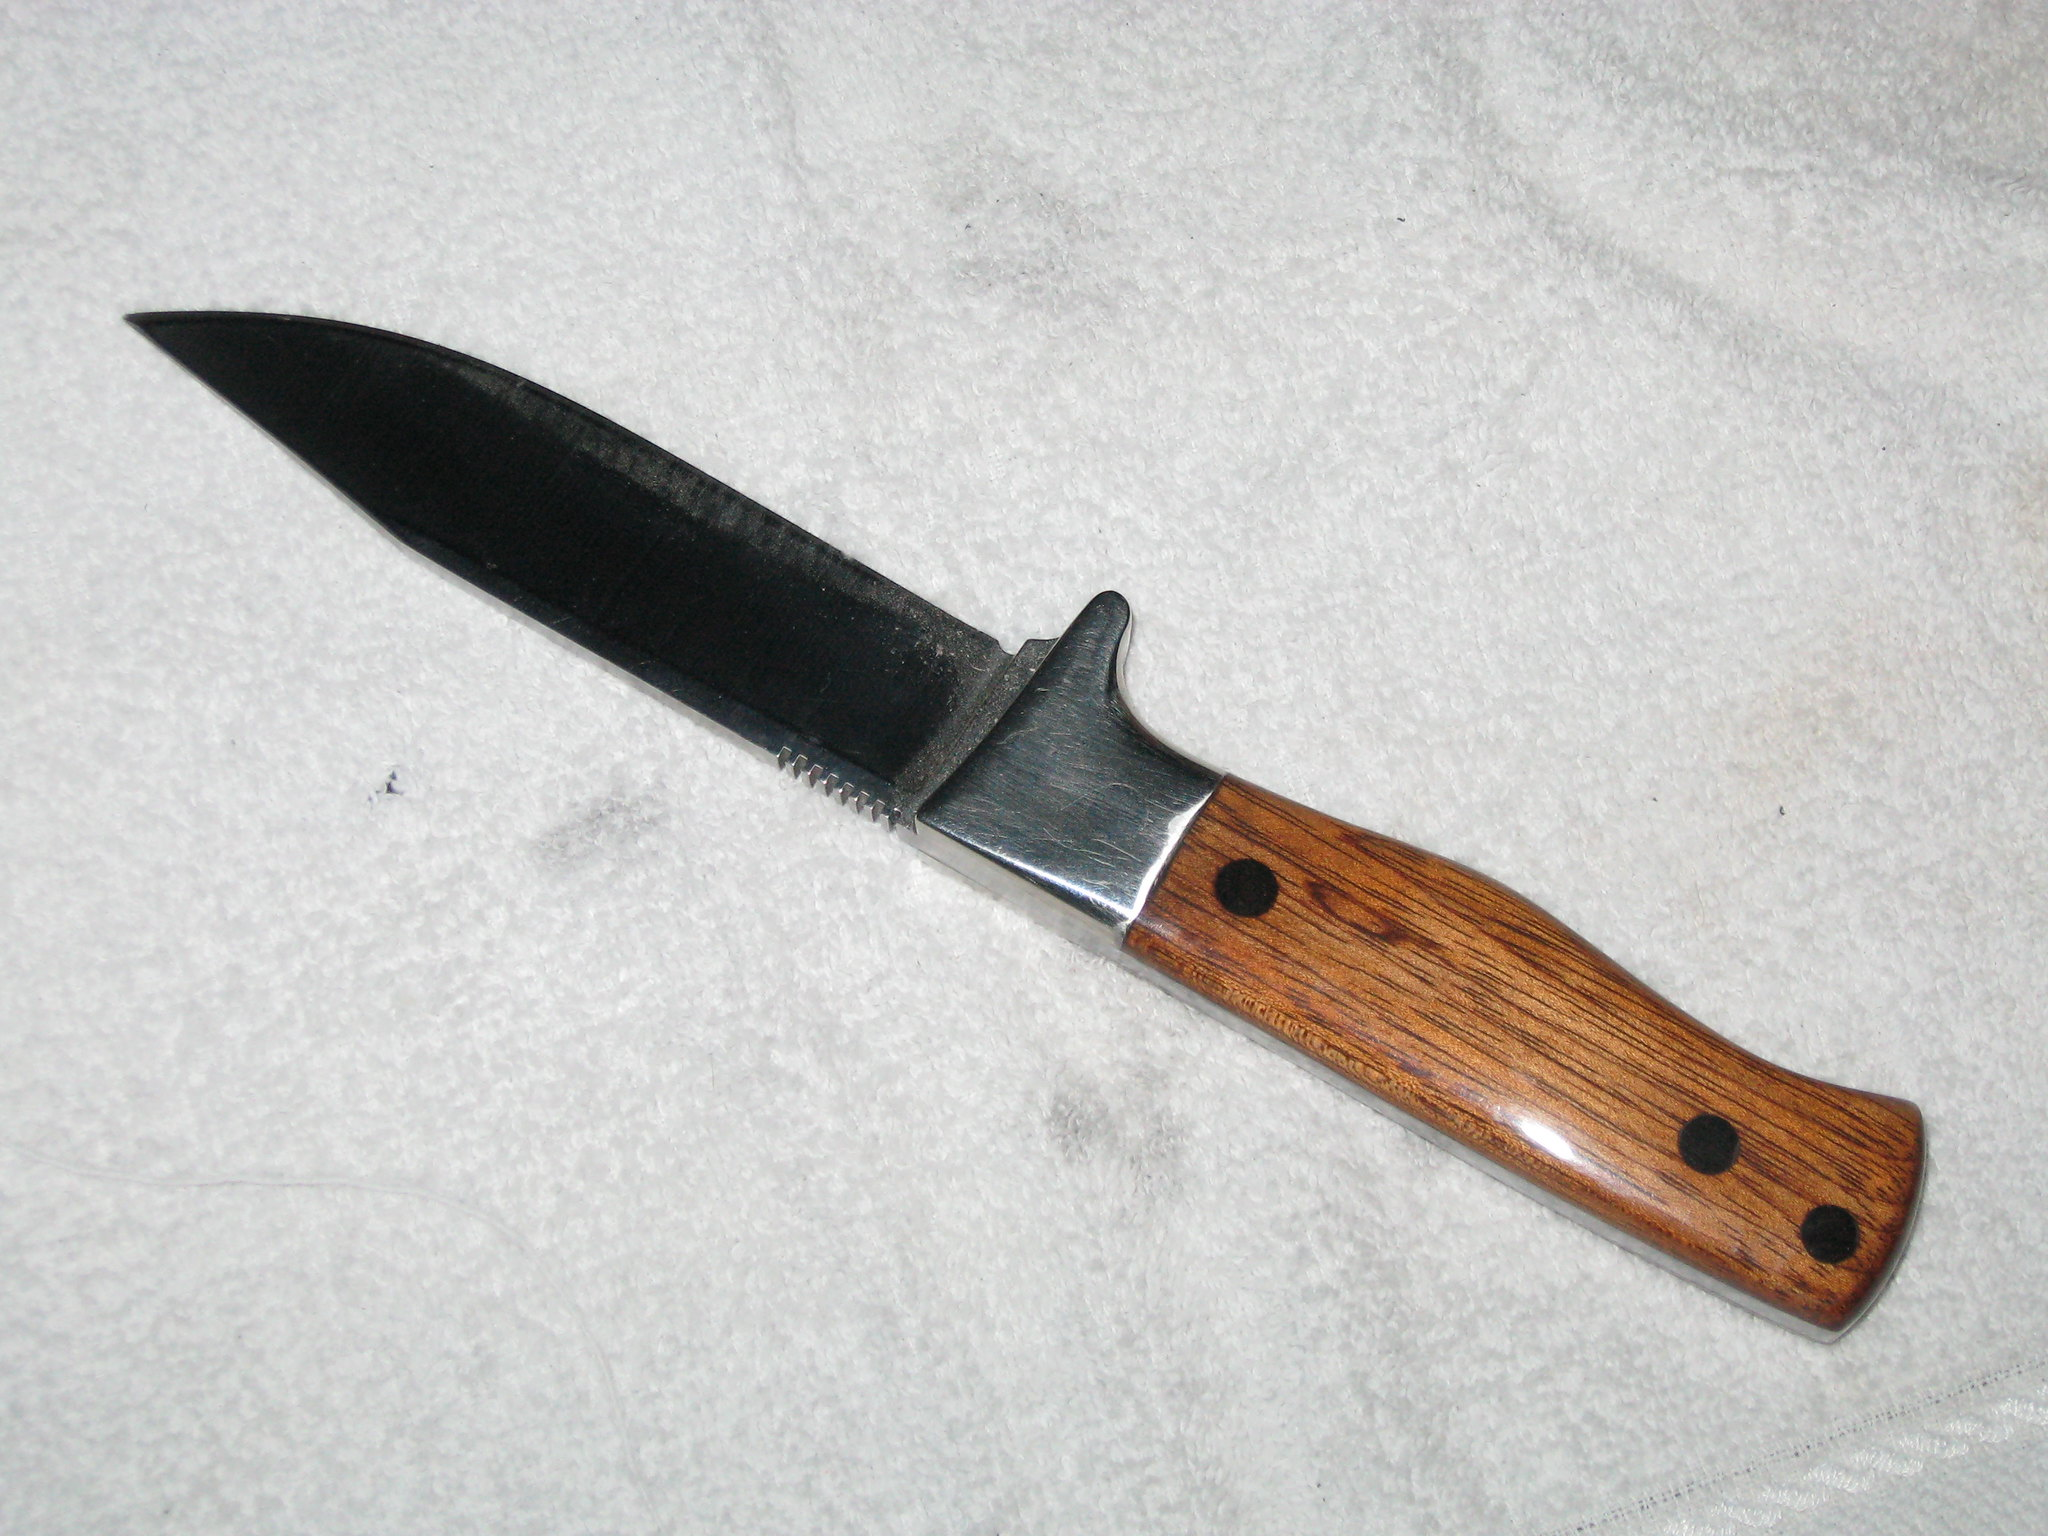knife: (110, 278, 1953, 1375)
